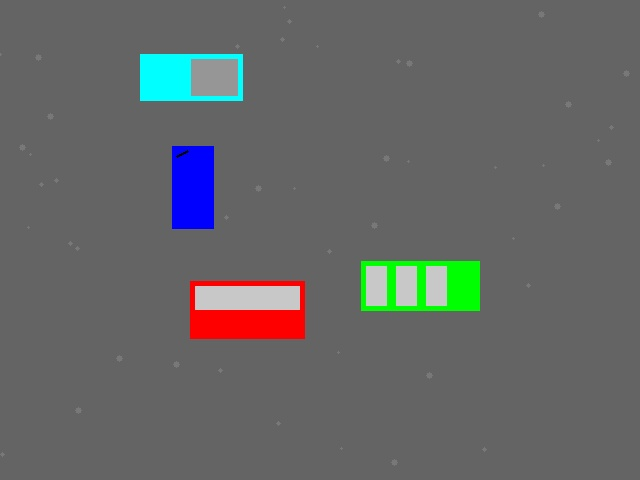bus: (361, 261, 479, 310)
car: (190, 281, 304, 338)
motorcycle: (172, 146, 213, 228)
truck: (140, 54, 242, 100)
